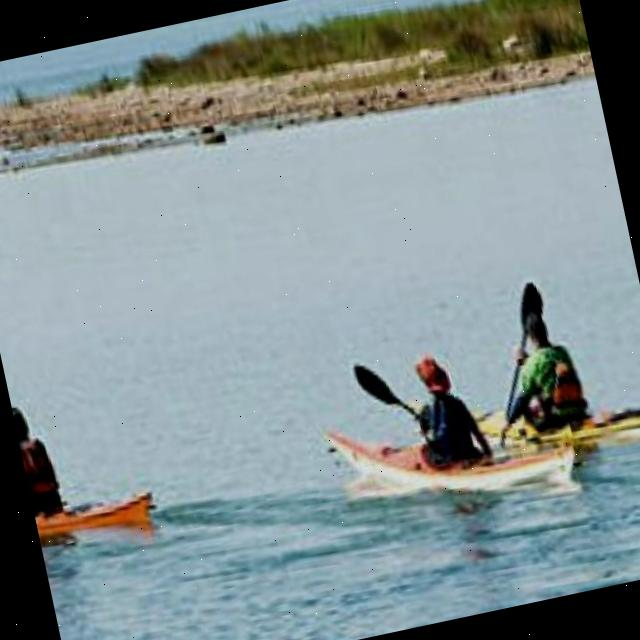kayak: (321, 427, 569, 486), (34, 487, 147, 537)
